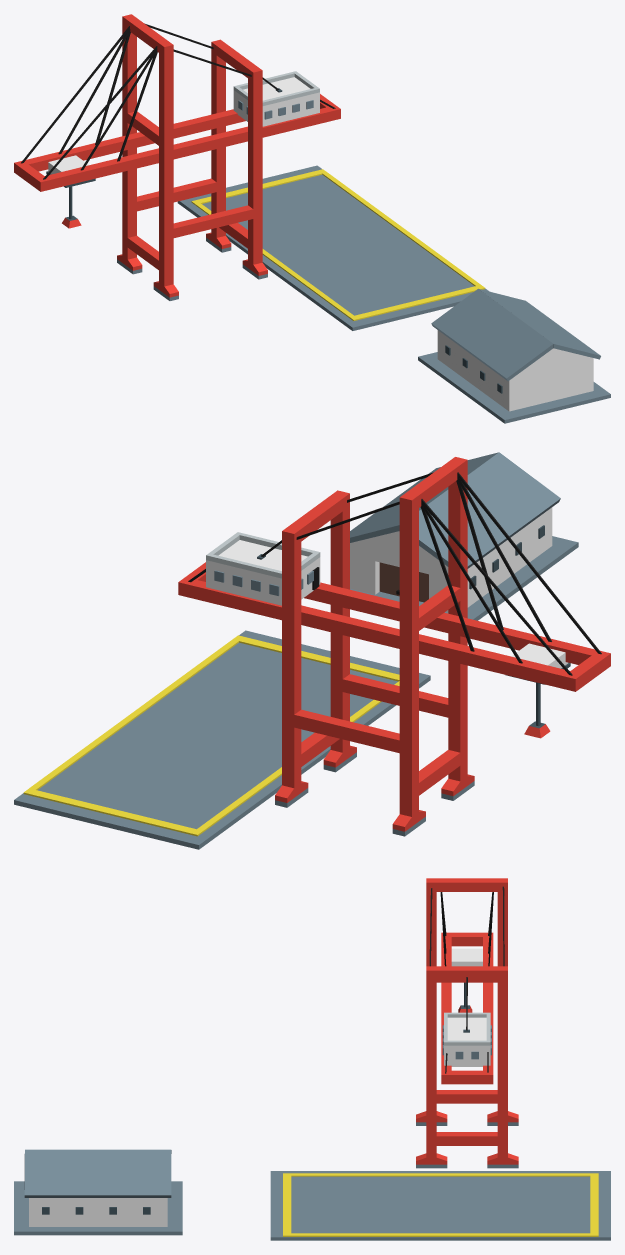
The model's file is loading_platform.obj.
3 views of the same model, one above another, from view 1: azimuth 30°, elevation 25°; view 2: azimuth 150°, elevation 25°; view 3: azimuth 270°, elevation 25° (orthographic). The views are drawn at different scales.
Visible parts, largest first — view 1: Crane_mesh915592506, WharehouseGround_mesh1567428629, otherStorage_mesh268255076; view 2: Crane_mesh915592506, WharehouseGround_mesh1567428629, otherStorage_mesh268255076, CraneMoveBlock_1_mesh1169467915; view 3: WharehouseGround_mesh1567428629, Crane_mesh915592506, otherStorage_mesh268255076, CraneMoveBlock_1_mesh1169467915.
Boxes of the visible parts, left/top/right/bottom form: Crane_mesh915592506: left=14, top=14, right=340, bottom=300; WharehouseGround_mesh1567428629: left=177, top=165, right=488, bottom=330; otherStorage_mesh268255076: left=418, top=288, right=610, bottom=423; Crane_mesh915592506: left=178, top=457, right=610, bottom=836; WharehouseGround_mesh1567428629: left=14, top=630, right=430, bottom=849; otherStorage_mesh268255076: left=350, top=452, right=578, bottom=620; CraneMoveBlock_1_mesh1169467915: left=505, top=643, right=570, bottom=684; WharehouseGround_mesh1567428629: left=270, top=1171, right=610, bottom=1240; Crane_mesh915592506: left=416, top=878, right=518, bottom=1168; otherStorage_mesh268255076: left=14, top=1149, right=182, bottom=1235; CraneMoveBlock_1_mesh1169467915: left=451, top=948, right=482, bottom=966.
Size of what is drawn, in the model's own units: 3.15 by 2.09 by 4.6.
